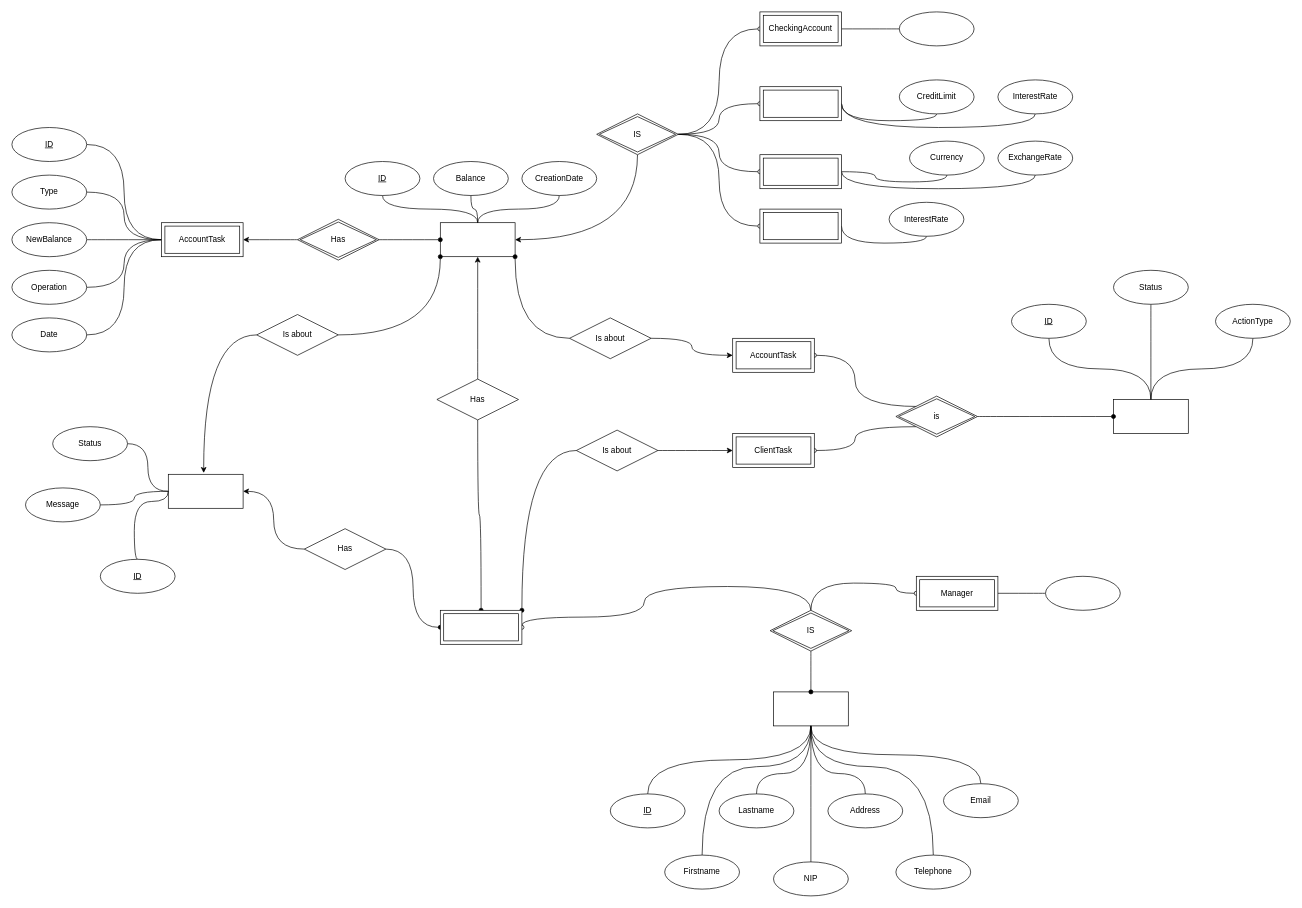
Image size: 1302x908. Some labels were removed from this diagram. Each missing label, with the box of its shape:
BankAccount: (440, 222, 515, 257)
Client: (440, 610, 522, 644)
CreditAccount: (759, 86, 842, 121)
CurrencyAccount: (759, 154, 842, 189)
Notification: (168, 474, 243, 508)
Role: (1045, 576, 1120, 610)
SavingAccount: (759, 208, 842, 243)
Task: (1113, 399, 1188, 434)
TransactionFee: (899, 11, 974, 46)
User: (773, 691, 848, 726)
